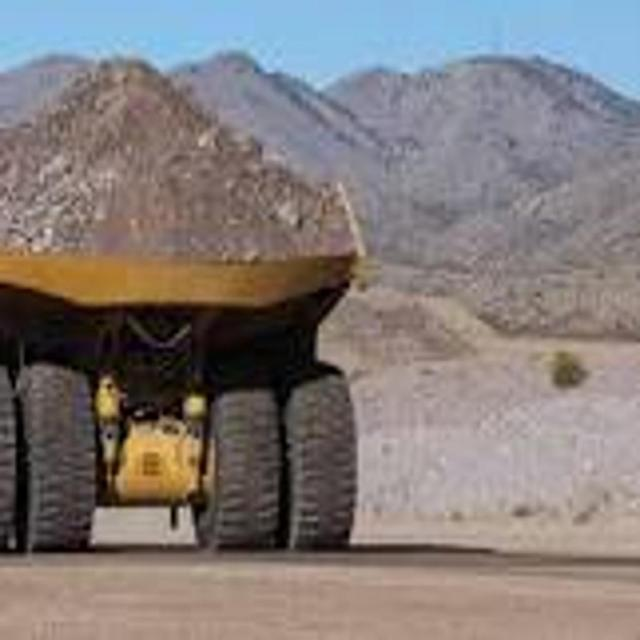dump_truck: (0, 46, 372, 574)
